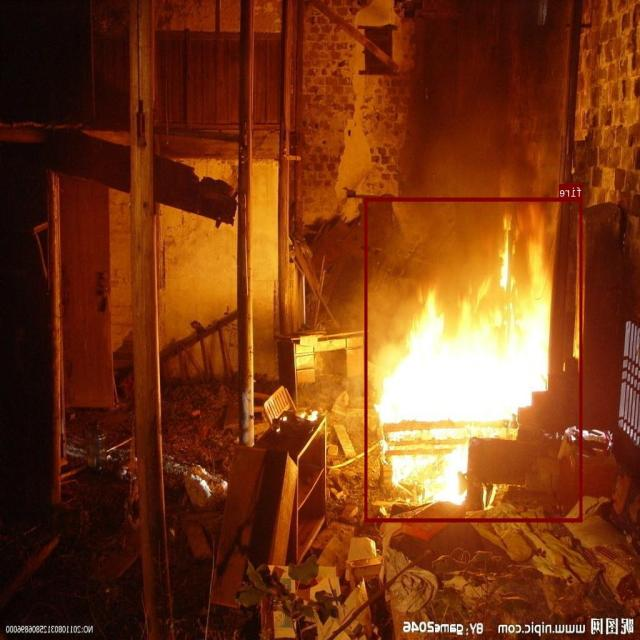fire: (366, 197, 582, 521)
